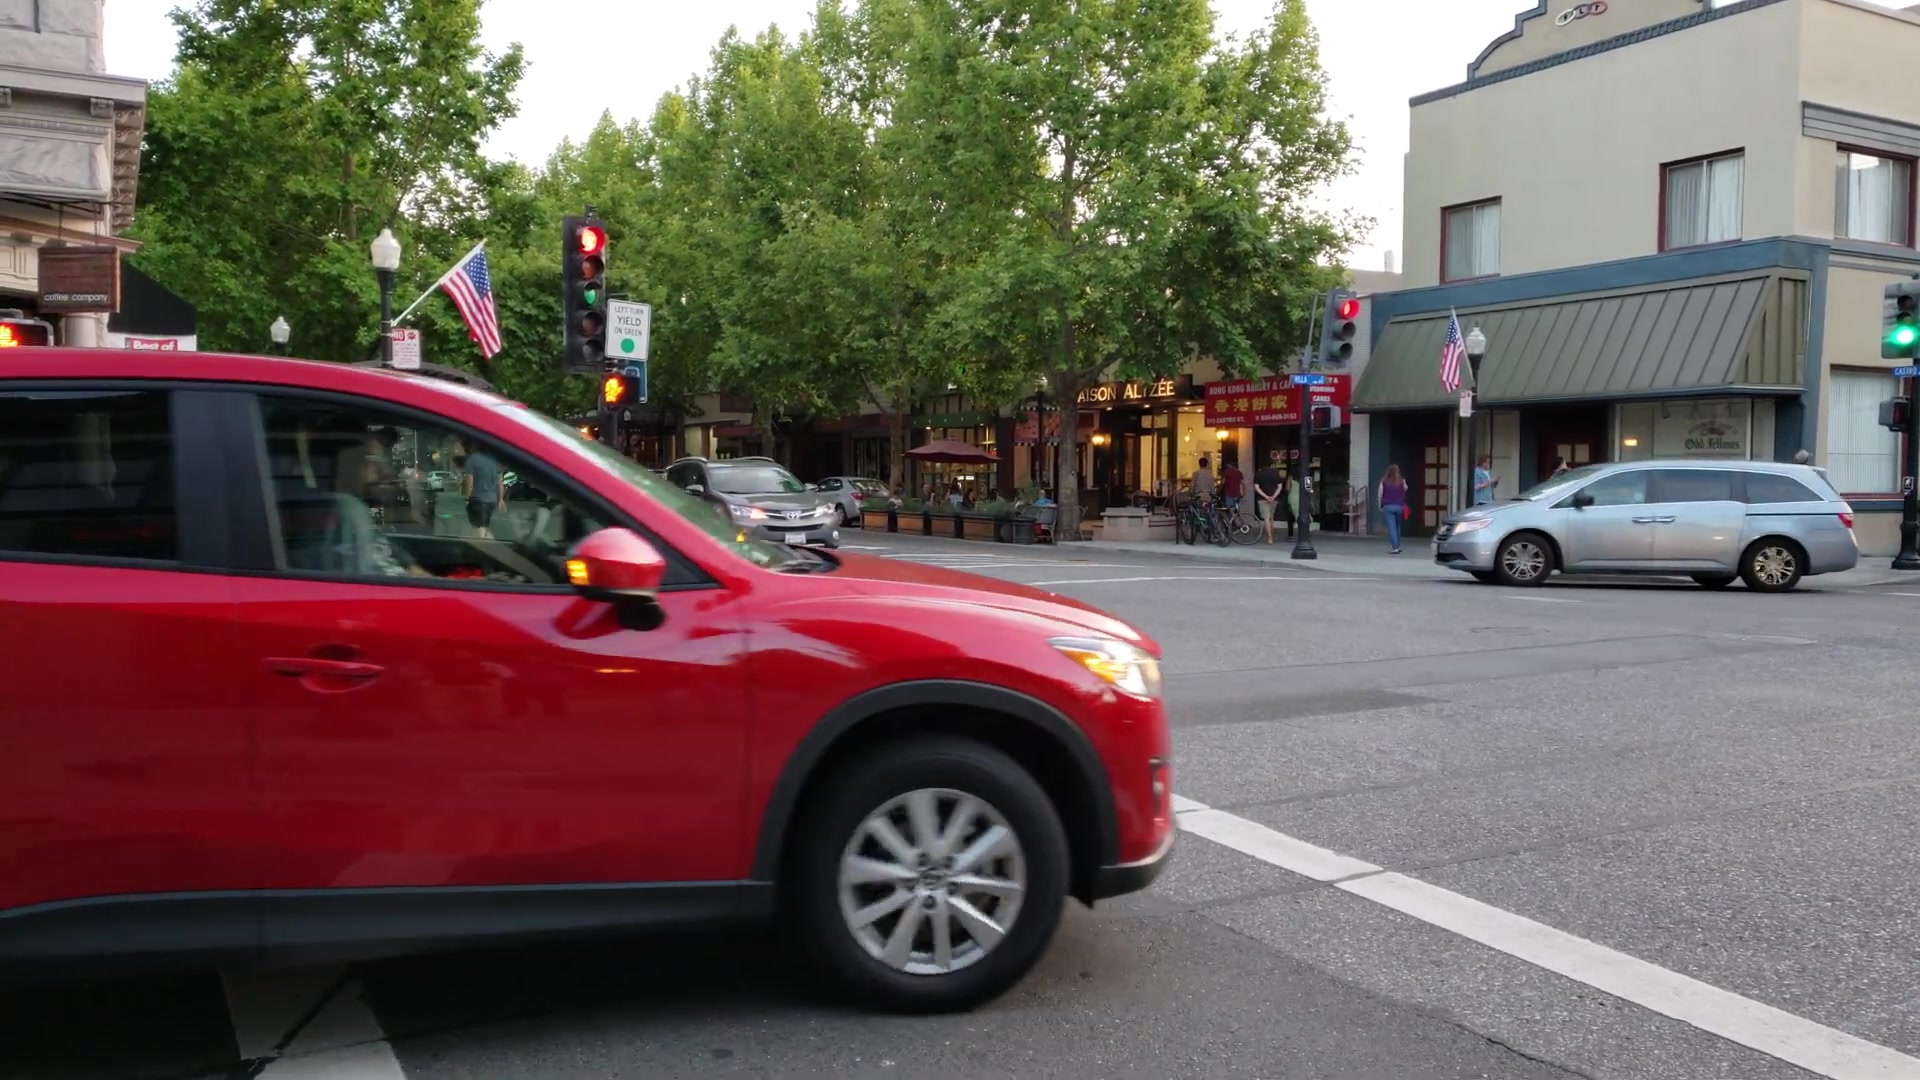vehicle: (1, 349, 1183, 1019), (1424, 450, 1859, 592), (662, 448, 837, 531)
